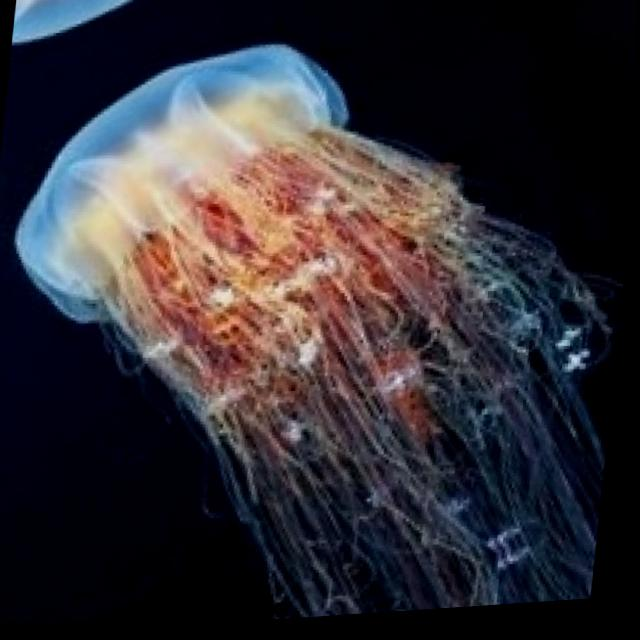Box-jellyfish: (0, 8, 638, 640)
